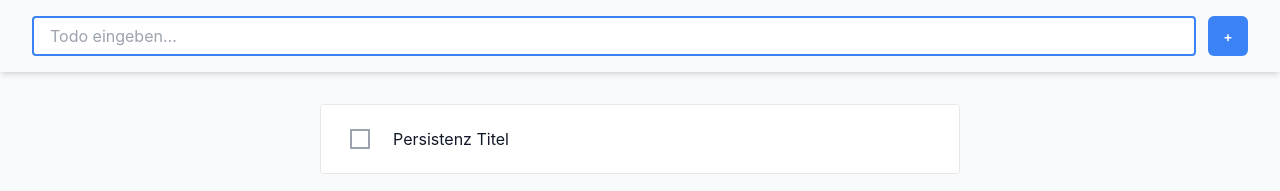
Test: FEAT-4 – Todo bearbeiten (Inline-Editing) › Geänderter Titel wird in localStorage persistiert
Double-click the button "Persistenz Titel" at (451, 139), box [393, 129, 509, 149]
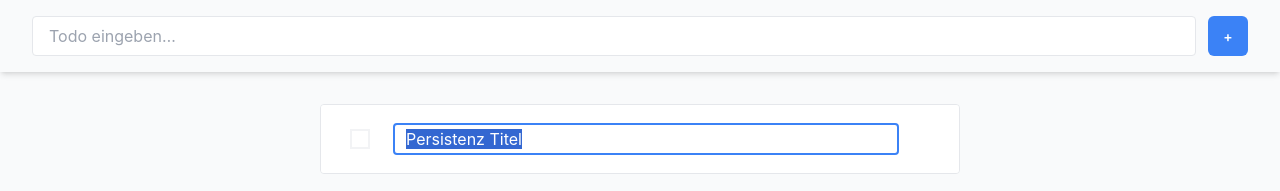
Replace the text in the field named "todo-titel bearbeiten" with "Gespeicherter Titel" at (646, 139), box [393, 123, 899, 155]
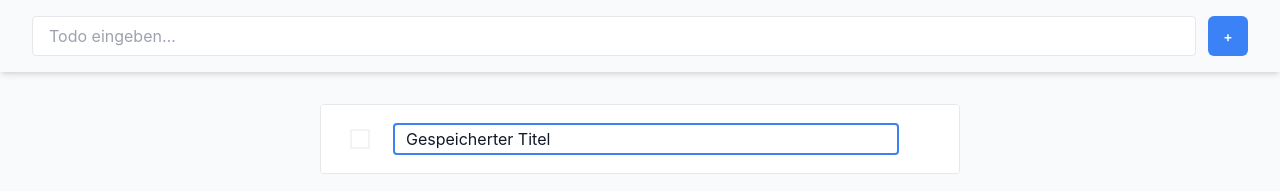
Type keys "[Enter]"
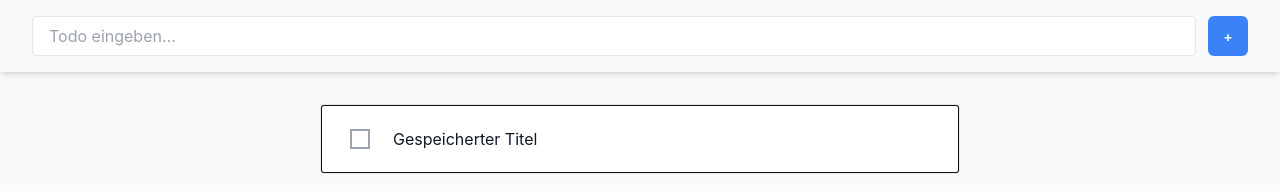
Expected: the button "Gespeicherter Titel" is shown, [393, 129, 537, 149]
